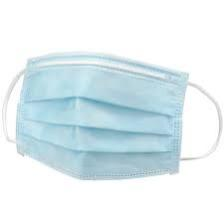mask: (17, 45, 190, 186)
